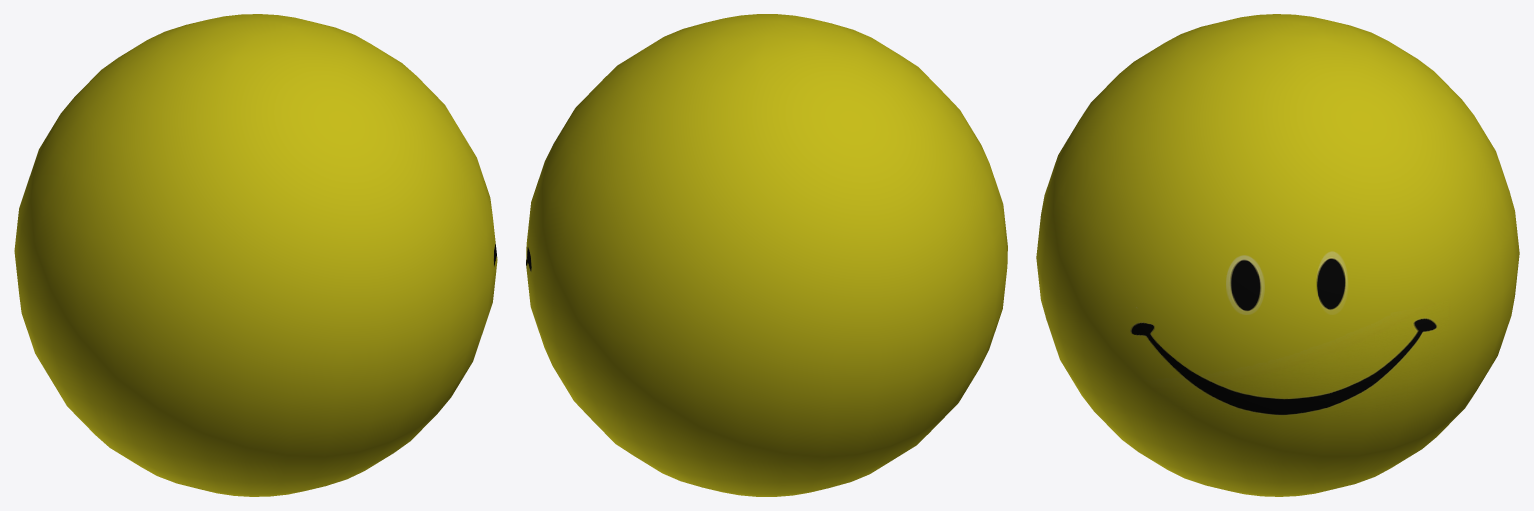
Rendered from smile.glb.
3 views of the same model, side by side, from view 1: azimuth 30°, elevation 25°; view 2: azimuth 150°, elevation 25°; view 3: azimuth 270°, elevation 25° (orthographic).
Visible parts, largest first — view 1: smileyface_2; view 2: smileyface_2; view 3: smileyface_2.
Part boxes in pixels (x1,y1,x2,y2): smileyface_2: (14,14,497,496); smileyface_2: (526,14,1007,496); smileyface_2: (1036,14,1519,496).
Bounding box in the file's own units: 2 × 2 × 2.
Materials: 1 (1 with a texture image).
